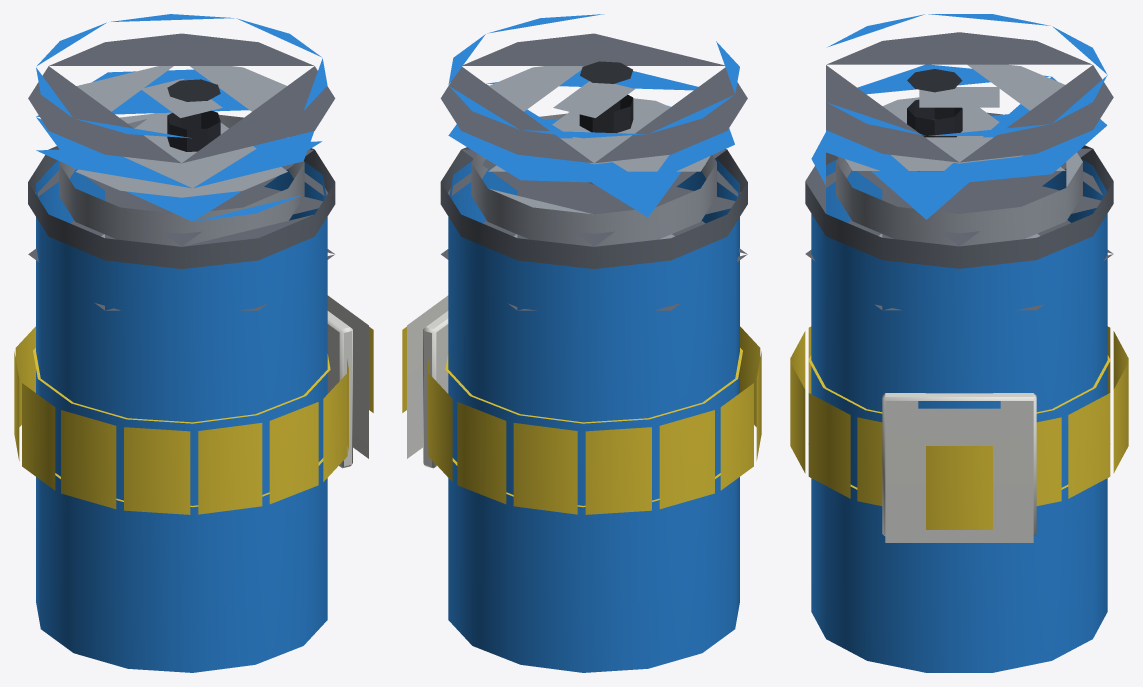
Rendered from item_cola.glb.
3 renders of one model, left to right at view 1: azimuth 30°, elevation 25°; view 2: azimuth 150°, elevation 25°; view 3: azimuth 270°, elevation 25°, orthographic.
Visible parts, largest first — view 1: item_cola, item_cola_detail; view 2: item_cola, item_cola_detail; view 3: item_cola, item_cola_detail.
Boxes of the visible parts, <box> form: item_cola: <box>14,14,373,672</box>; item_cola_detail: <box>167,79,220,151</box>; item_cola: <box>402,14,761,672</box>; item_cola_detail: <box>579,61,633,133</box>; item_cola: <box>790,14,1128,672</box>; item_cola_detail: <box>907,69,962,137</box>.
Bounding box in the file's own units: 0.1195 × 0.192 × 0.1097.
